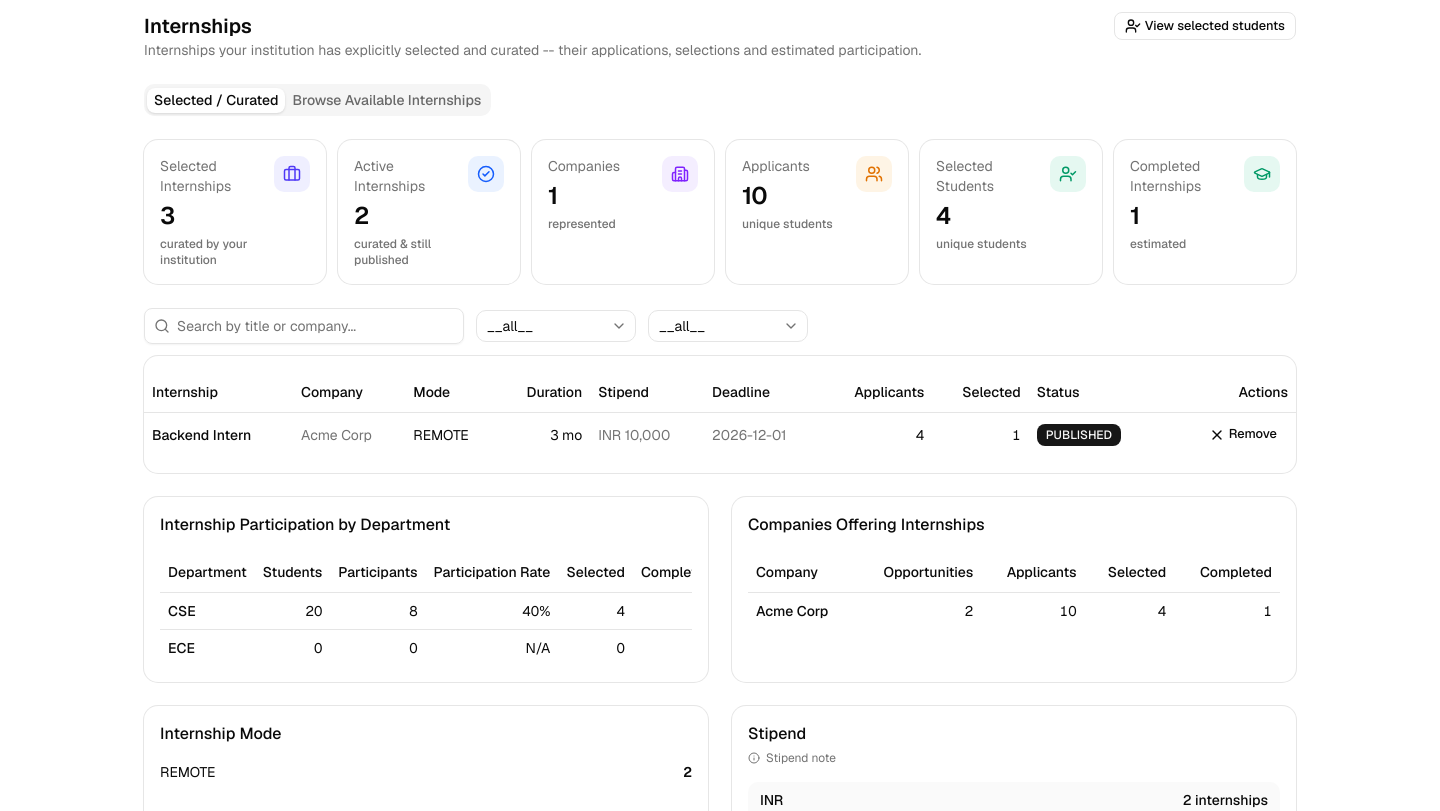
Test case: InstitutionInternshipsView › renders available internships with an Add to Institution action
Expected: the link "Backend Intern" is shown, [152, 426, 251, 444]
What coordinates should you click on to do the following:
click the tab "Browse Available Internships"
I would click on:
 (387, 100)
Its box is [286, 88, 488, 112].
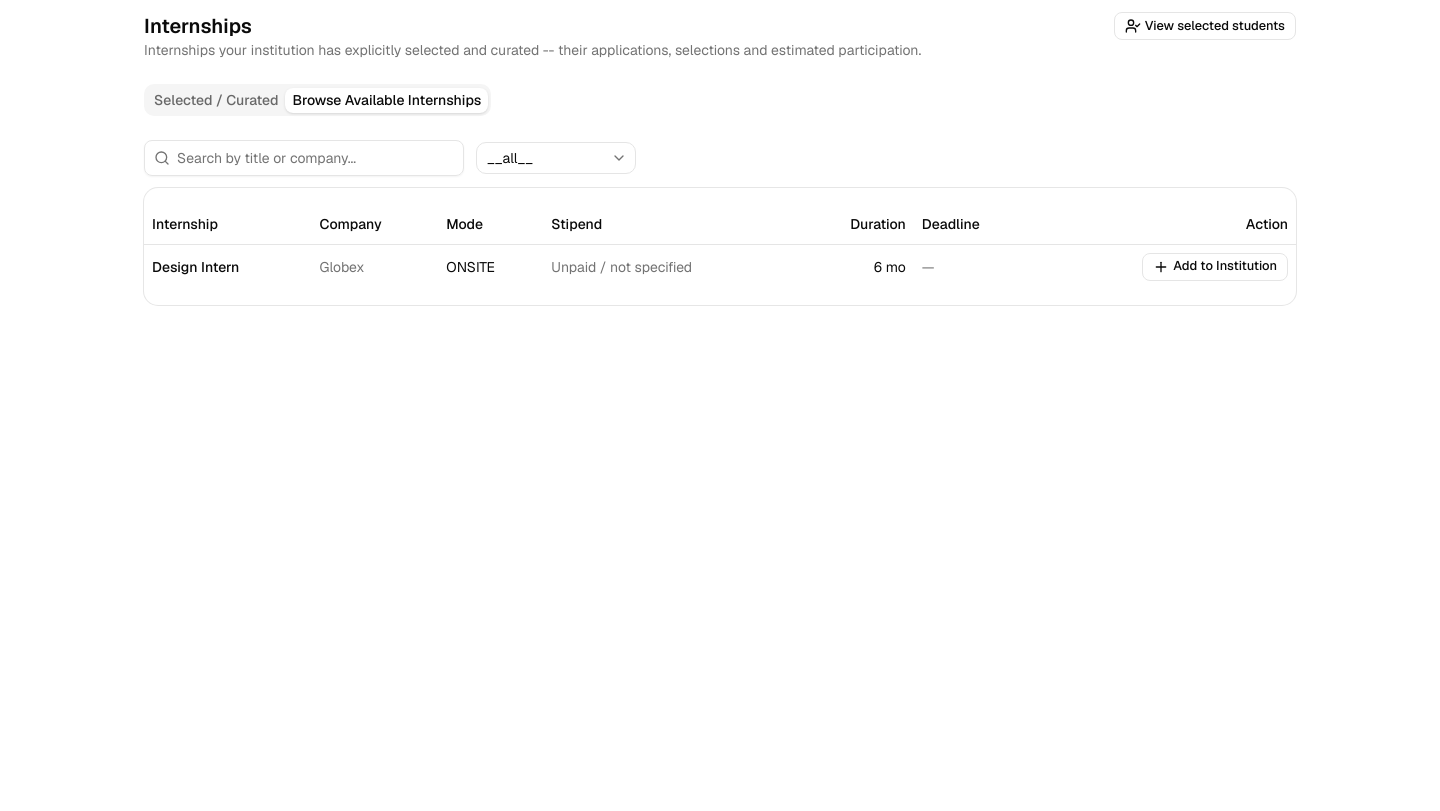
Expected: the text "Design Intern" is shown, [144, 244, 312, 288]
Expected: the button "Add to Institution" is shown, [1142, 252, 1288, 280]
